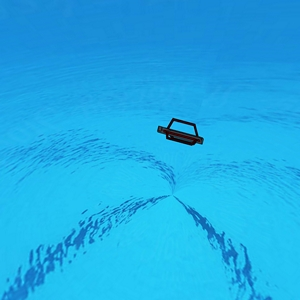submarine: (154, 116, 207, 154)
